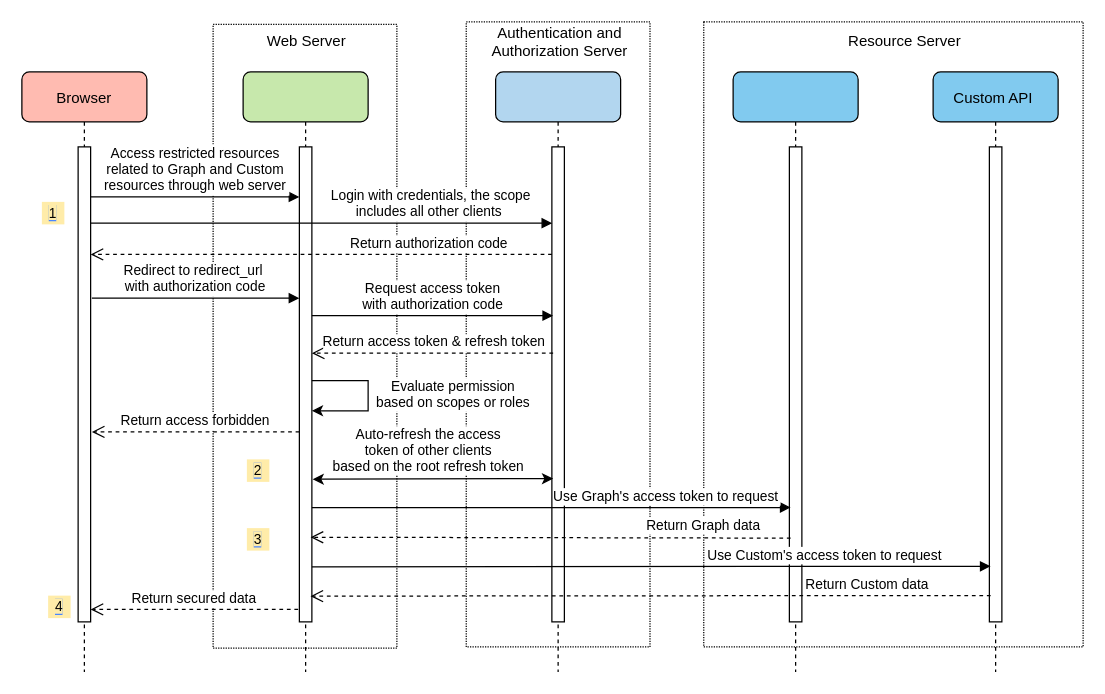
This 1105x694 diagram has some shape labels left out. Here are the shapes that lost their labels. From the top down, the box of each, then its label:
(242, 71, 368, 672): Web application
(494, 71, 621, 672): Azure AD
(732, 71, 858, 672): Graph API
